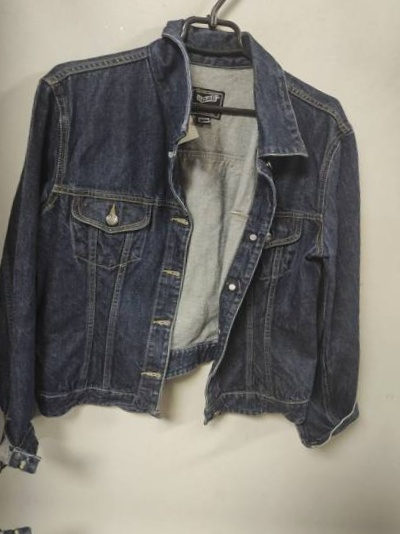Blazer: (0, 18, 398, 498), (0, 526, 358, 534)
